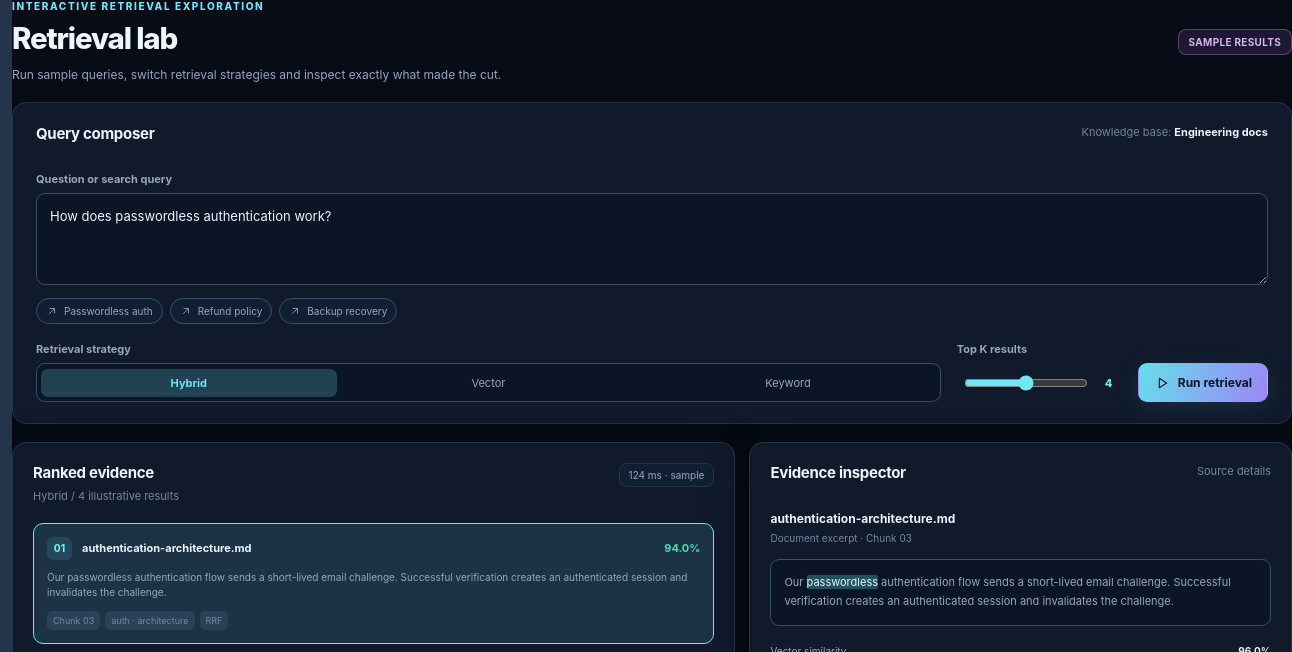
Test: retrieval lab preview › supports retrieval modes, Top K and evidence selection
Click the button "Keyword": [788, 382] box [640,368,936,396]
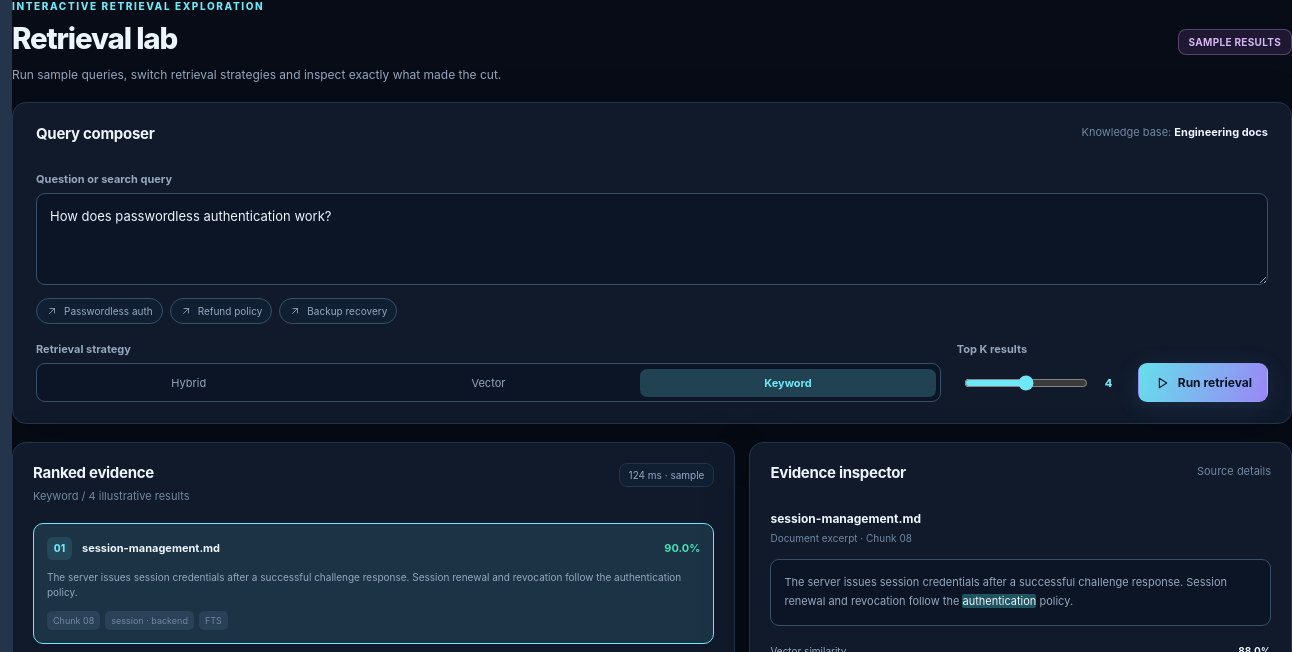
Check: the text "Keyword / 4 illustrative results" is shown, box [33,488,190,504]
Set the slider labelled "Top K results" to "2": [972, 382] box [964,374,1088,390]
(page scrolled)
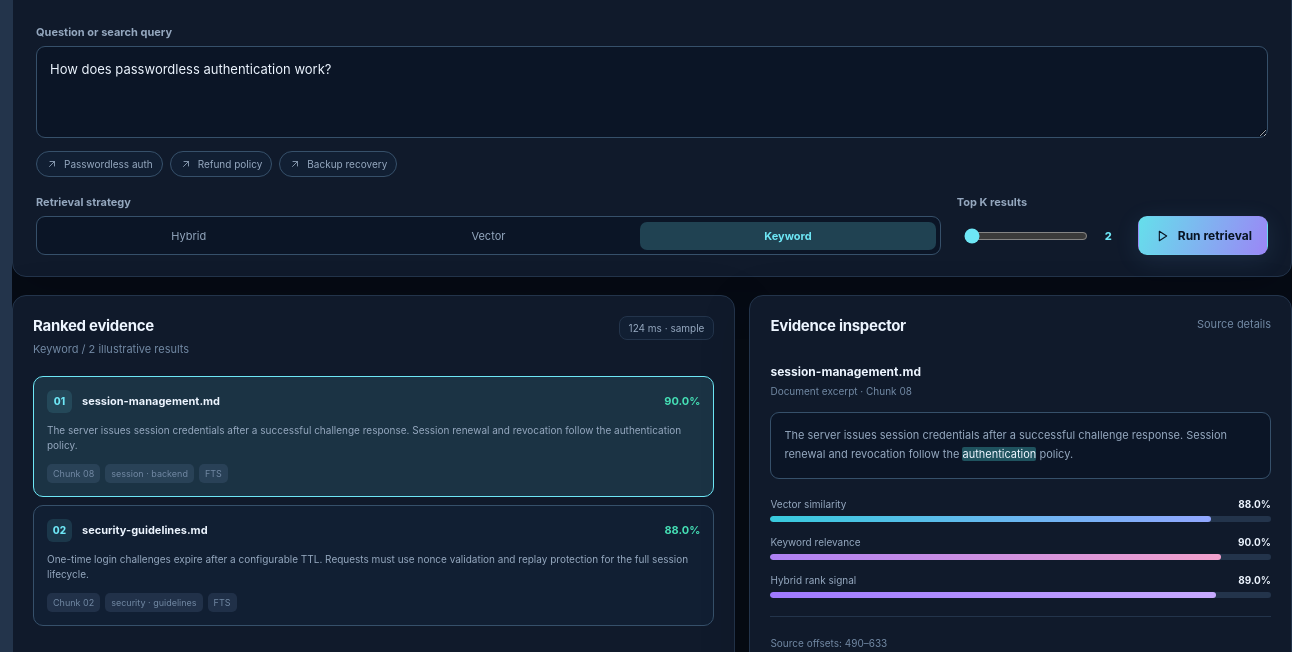
Check: the number of buttons with class "evidence-result" is 2
Click the button with class "evidence-result" that starts with "security-guidelines.md": [374, 565] box [33,504,714,626]
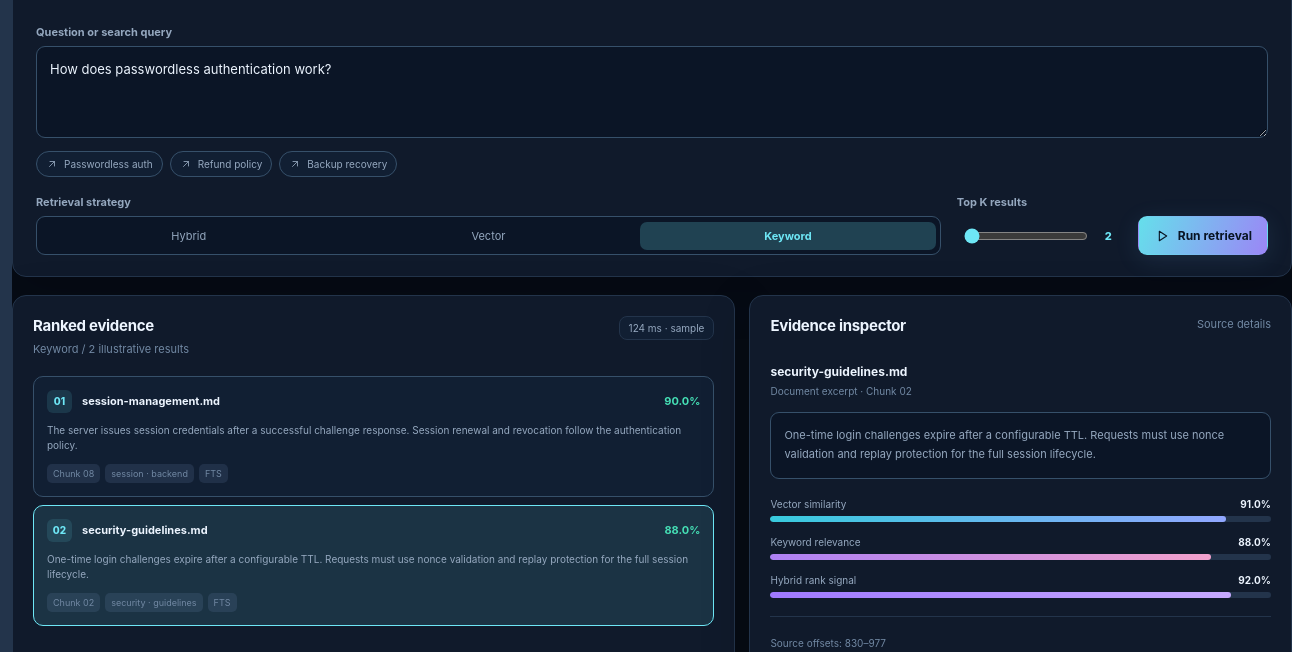
Check: the text "security-guidelines.md" below "Evidence inspector" is shown, box [770,364,907,379]
